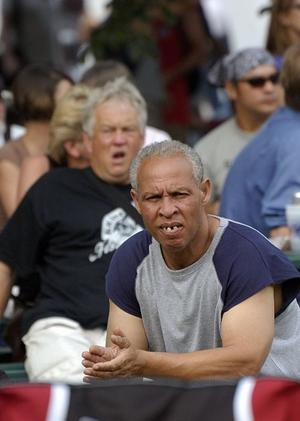person without safety: (106, 123, 286, 348)
